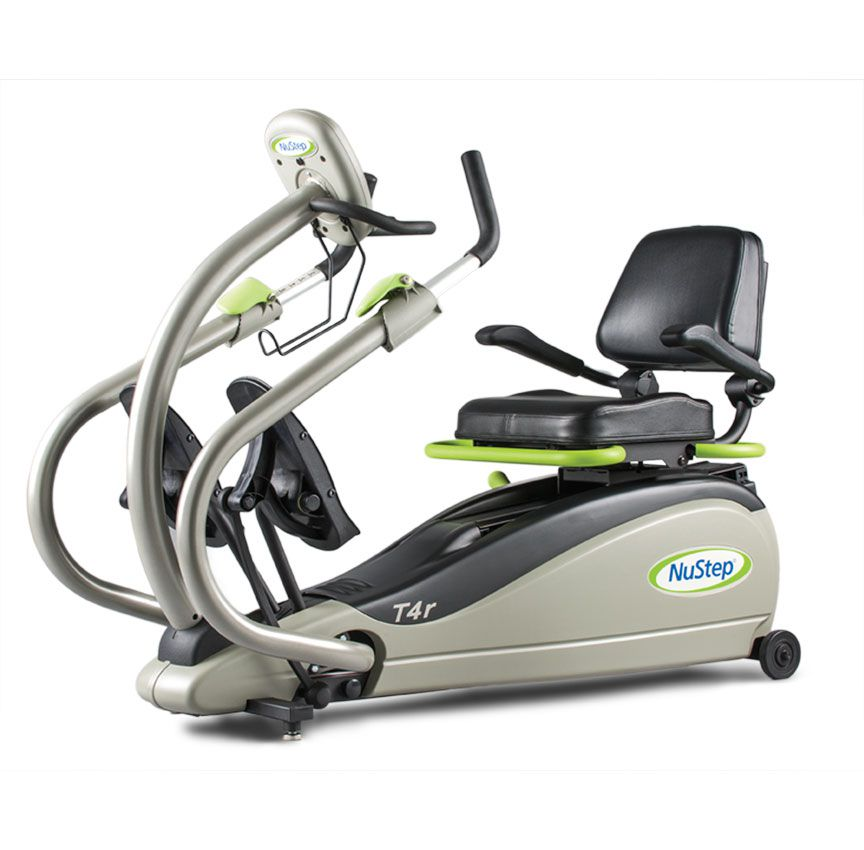gym_bike: (35, 108, 800, 737)
